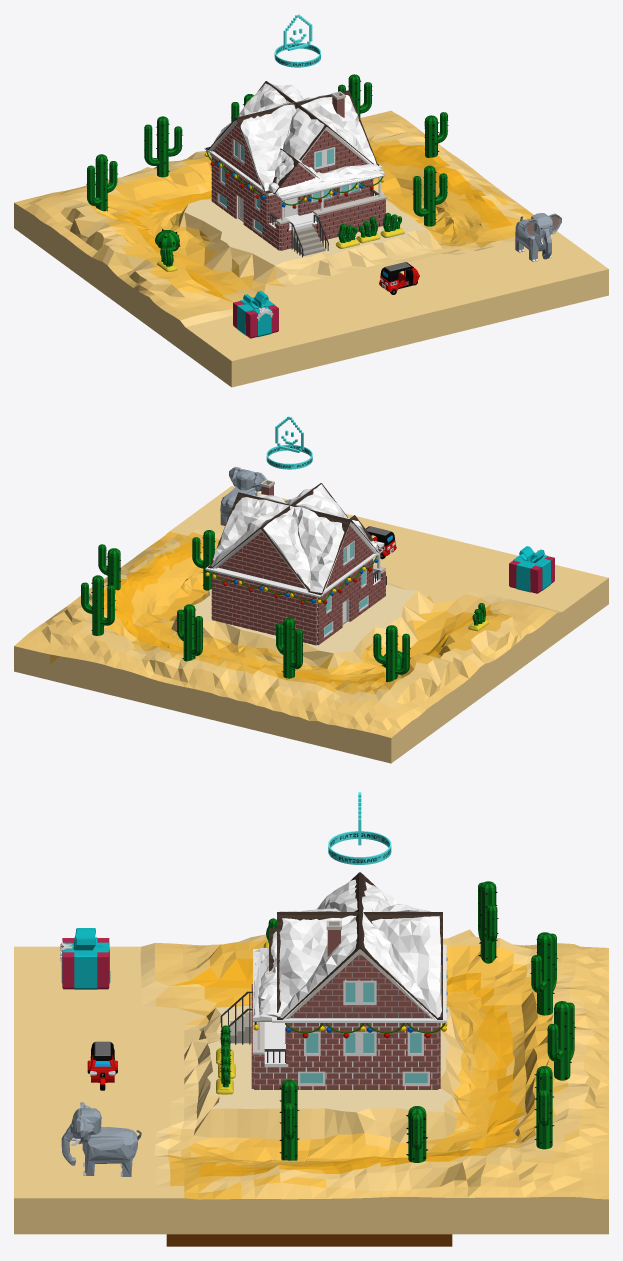
3 renders of one model, top to bottom at view 1: azimuth 30°, elevation 25°; view 2: azimuth 150°, elevation 25°; view 3: azimuth 270°, elevation 25°, orthographic. The views are drawn at different scales.
Visible parts, largest first — view 1: Cube.001, Cube.1419, OBJRANDOM_GIANT_PRESENT, ANIMAL_ELEFANTE, Cylinder.044, Cylinder.037, Cylinder.045, TYPE_PREMIUM, VEHICLES_TUC_TUC, Cylinder.038, Cylinder.042; view 2: Cube.001, Cube.1419, OBJRANDOM_GIANT_PRESENT, Cylinder.042, Cylinder.045, Cylinder.044, Cylinder.043, ANIMAL_ELEFANTE, TYPE_PREMIUM, Cylinder.037, Cylinder.038, VEHICLES_TUC_TUC; view 3: Cube.001, Cube.1419, UNDERGROUND_ART_PIECE_VAN_GOGH, ANIMAL_ELEFANTE, OBJRANDOM_GIANT_PRESENT, Cylinder.043, Cylinder.044, Cylinder.045, Cylinder.042, Cylinder.037, TYPE_PREMIUM, VEHICLES_TUC_TUC (+1 smaller).
Boxes of the visible parts, <box> form: Cube.001: <box>14,110,608,387</box>; Cube.1419: <box>204,81,387,257</box>; OBJRANDOM_GIANT_PRESENT: <box>233,291,278,338</box>; ANIMAL_ELEFANTE: <box>515,213,561,262</box>; Cylinder.044: <box>144,116,182,177</box>; Cylinder.037: <box>413,165,447,226</box>; Cylinder.045: <box>86,154,117,211</box>; TYPE_PREMIUM: <box>274,14,320,67</box>; VEHICLES_TUC_TUC: <box>379,262,419,294</box>; Cylinder.038: <box>424,112,448,157</box>; Cylinder.042: <box>338,74,372,118</box>; Cube.001: <box>14,486,608,763</box>; Cube.1419: <box>205,479,386,645</box>; OBJRANDOM_GIANT_PRESENT: <box>509,546,554,593</box>; Cylinder.042: <box>81,575,115,635</box>; Cylinder.045: <box>373,625,410,682</box>; Cylinder.044: <box>276,617,302,678</box>; Cylinder.043: <box>176,604,203,661</box>; ANIMAL_ELEFANTE: <box>220,466,266,525</box>; TYPE_PREMIUM: <box>266,416,312,469</box>; Cylinder.037: <box>192,530,219,590</box>; Cylinder.038: <box>98,544,120,590</box>; VEHICLES_TUC_TUC: <box>366,526,396,559</box>; Cube.001: <box>14,929,608,1234</box>; Cube.1419: <box>220,872,447,1089</box>; UNDERGROUND_ART_PIECE_VAN_GOGH: <box>166,1234,452,1246</box>; ANIMAL_ELEFANTE: <box>61,1102,141,1176</box>; OBJRANDOM_GIANT_PRESENT: <box>60,928,110,989</box>; Cylinder.043: <box>546,1001,575,1080</box>; Cylinder.044: <box>530,932,557,1015</box>; Cylinder.045: <box>478,881,498,963</box>; Cylinder.042: <box>534,1066,554,1149</box>; Cylinder.037: <box>279,1079,299,1160</box>; TYPE_PREMIUM: <box>328,792,391,864</box>; VEHICLES_TUC_TUC: <box>87,1041,117,1090</box>.
Bounding box in the file's own units: 4002 × 2563 × 4001.
42 materials, 4 textured.
